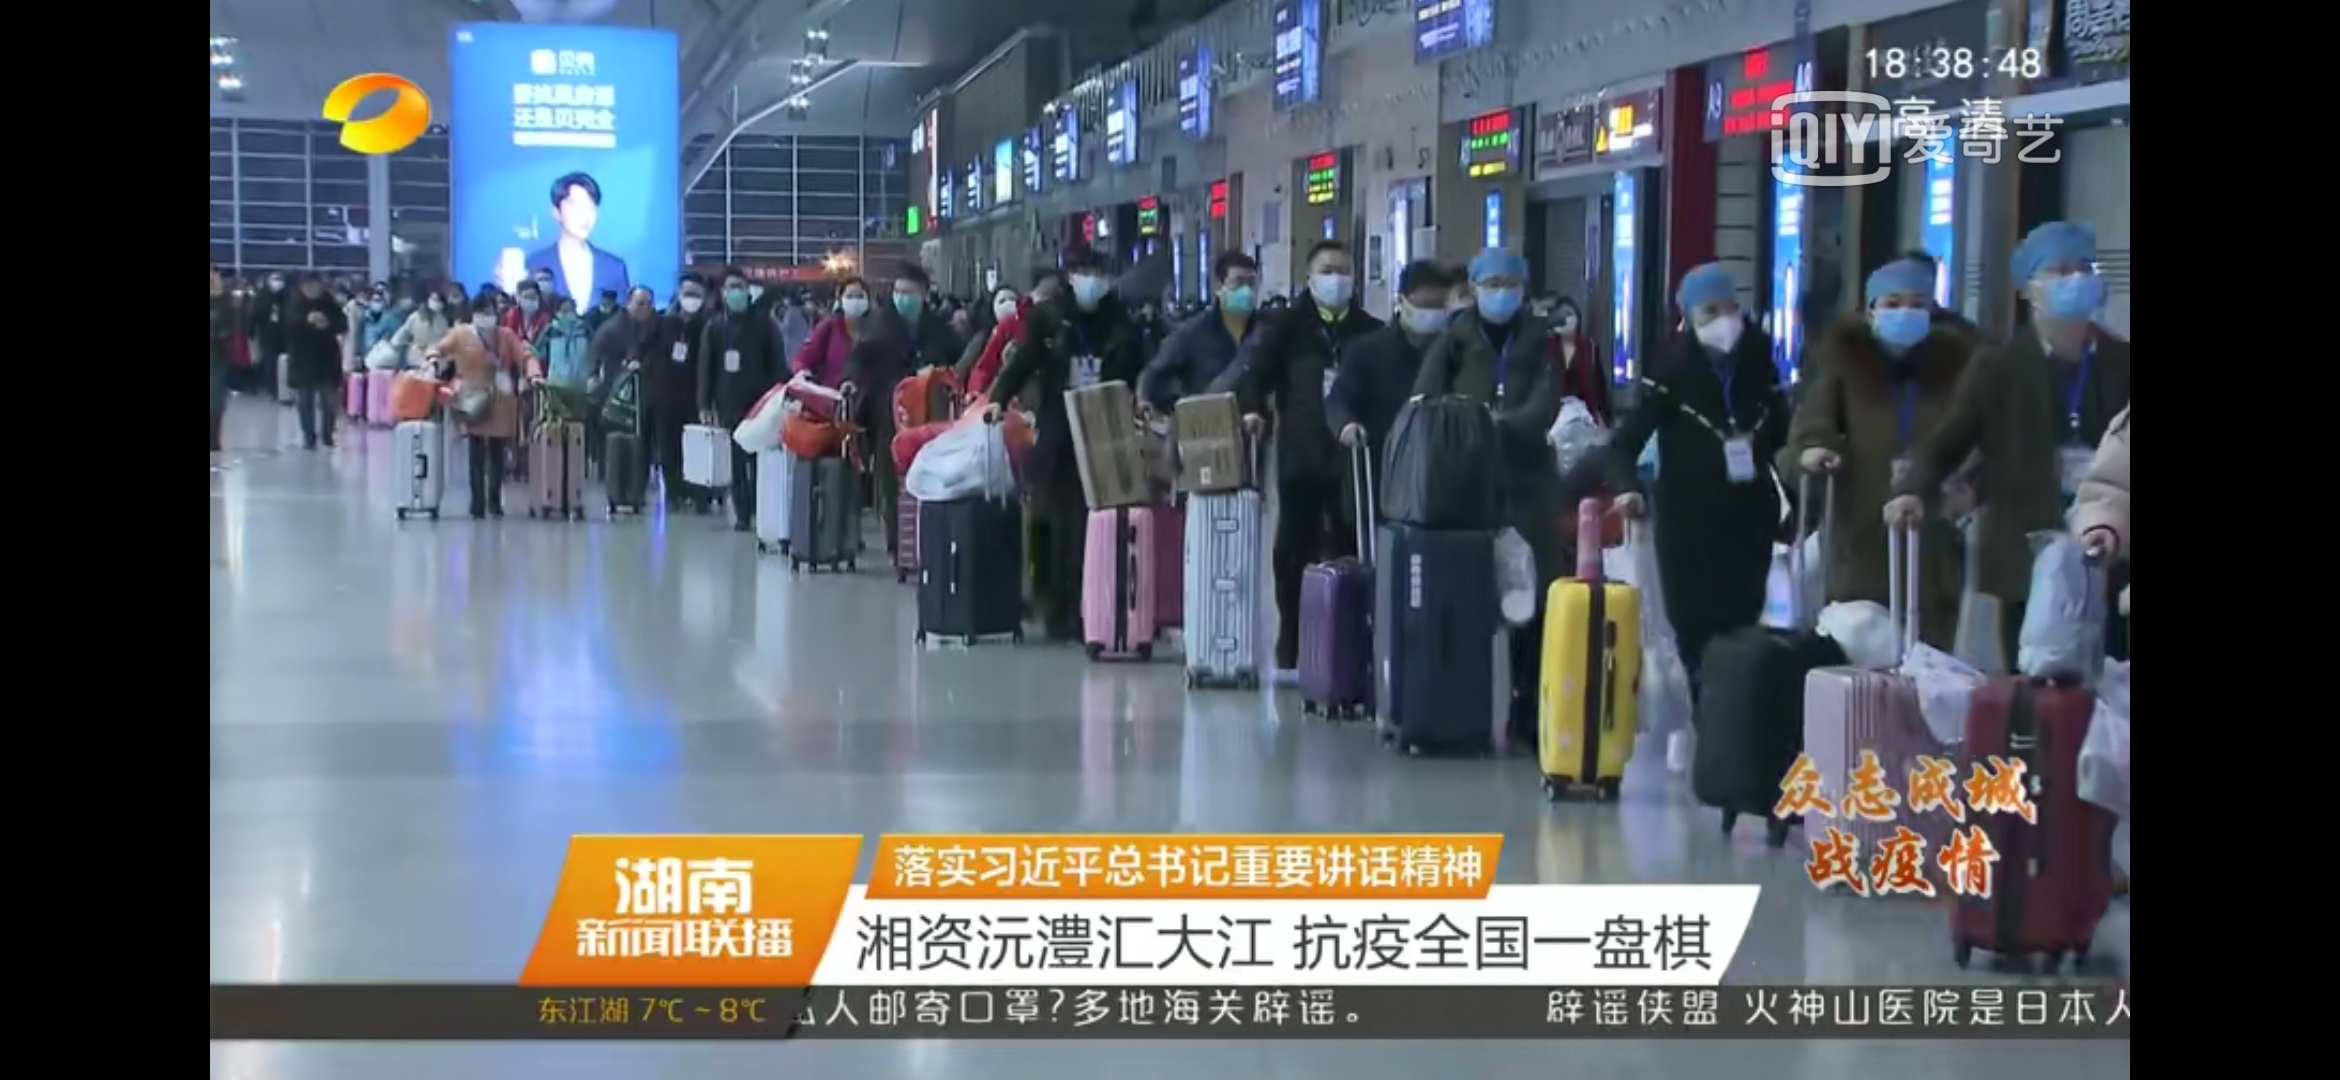correctlyWear: (2019, 251, 2106, 340), (1868, 294, 1933, 351), (1392, 285, 1448, 340), (1694, 306, 1748, 360), (1474, 277, 1527, 330), (1304, 261, 1358, 310), (1066, 263, 1110, 312), (1218, 274, 1261, 319), (722, 276, 751, 319), (894, 280, 924, 316), (839, 288, 870, 321), (676, 286, 704, 321), (1554, 306, 1577, 336), (994, 295, 1018, 321), (631, 294, 654, 319), (475, 303, 495, 330), (519, 289, 540, 312), (537, 274, 554, 295), (560, 303, 576, 322), (428, 292, 443, 312), (269, 274, 285, 291), (372, 295, 382, 312)
noWear: (304, 277, 319, 298)
